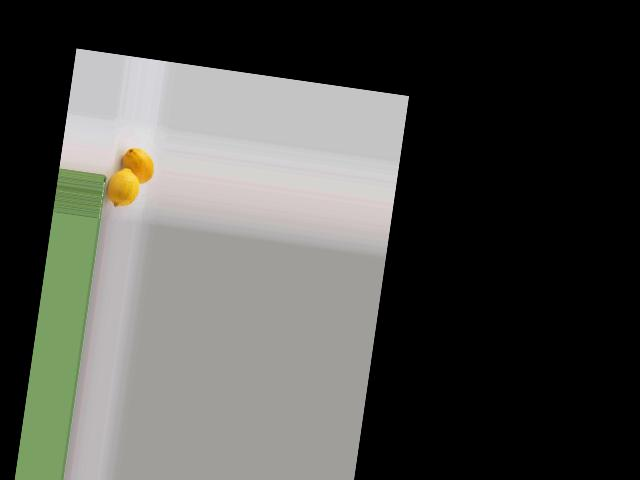lemon: (122, 145, 157, 183)
